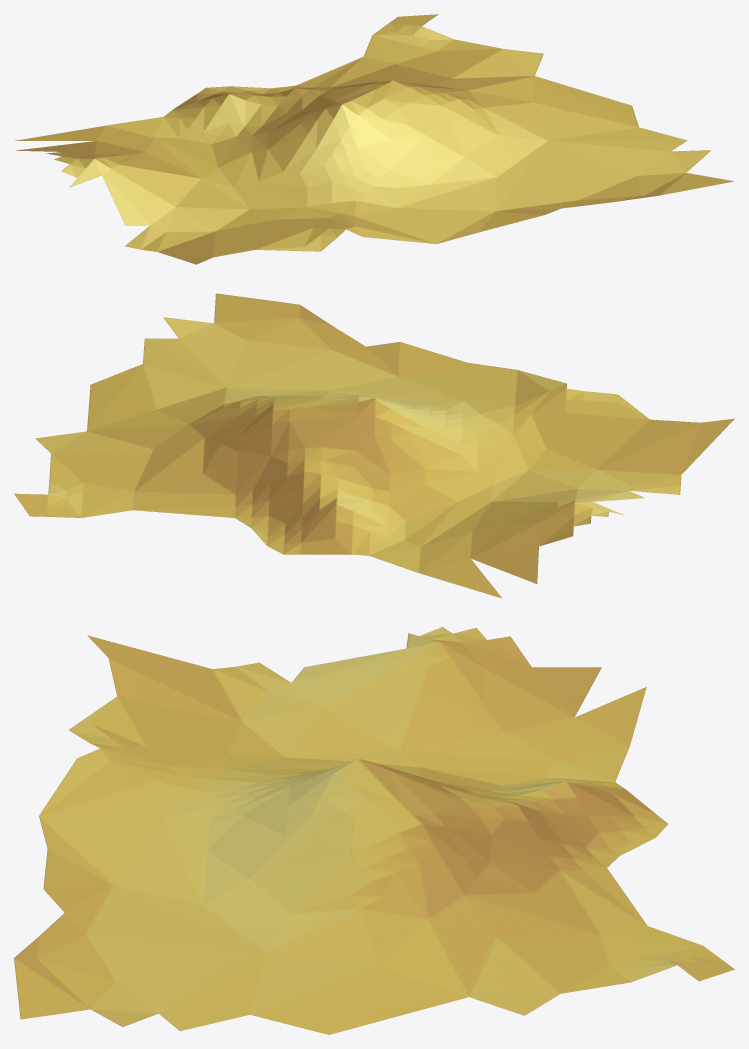
Rendered from Desert_Mountain.FBX.
3 views of the same model, one above another, from view 1: azimuth 30°, elevation 25°; view 2: azimuth 150°, elevation 25°; view 3: azimuth 270°, elevation 25° (orthographic). The views are drawn at different scales.
Parts seen in each view (by area): view 1: desert; view 2: desert; view 3: desert.
Boxes of the visible parts, <box> form: desert: <box>15,14,733,264</box>; desert: <box>14,293,734,598</box>; desert: <box>14,627,734,1034</box>.
Bounding box in the file's own units: 51365 × 42611 × 5626.
